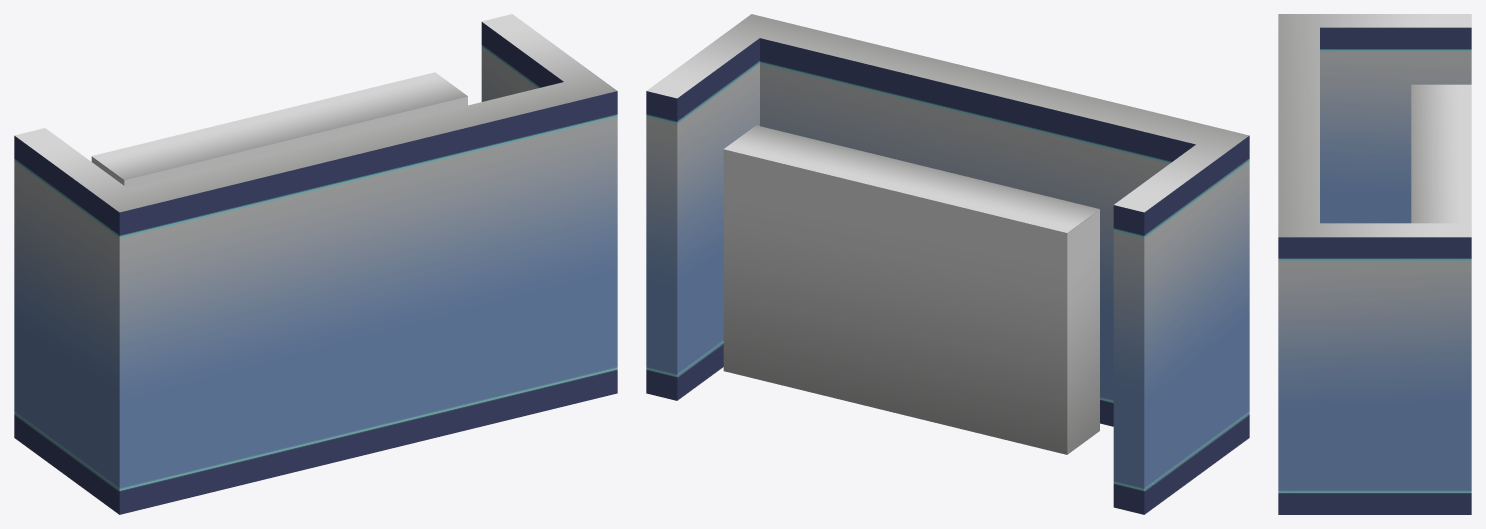
The model's file is Lamp_T02.FBX.
The picture shows the model from 3 angles, left to right: view 1: azimuth 30°, elevation 25°; view 2: azimuth 150°, elevation 25°; view 3: azimuth 270°, elevation 25°; orthographic projection. The views are drawn at different scales.
Visible parts, largest first — view 1: Lamp_T02; view 2: Lamp_T02; view 3: Lamp_T02.
Part boxes in pixels (x1,y1,x2,y2): Lamp_T02: [14, 14, 617, 514]; Lamp_T02: [646, 14, 1249, 514]; Lamp_T02: [1278, 14, 1471, 514].
Size of the model in its own units: 16.14 by 9.37 by 5.91.
